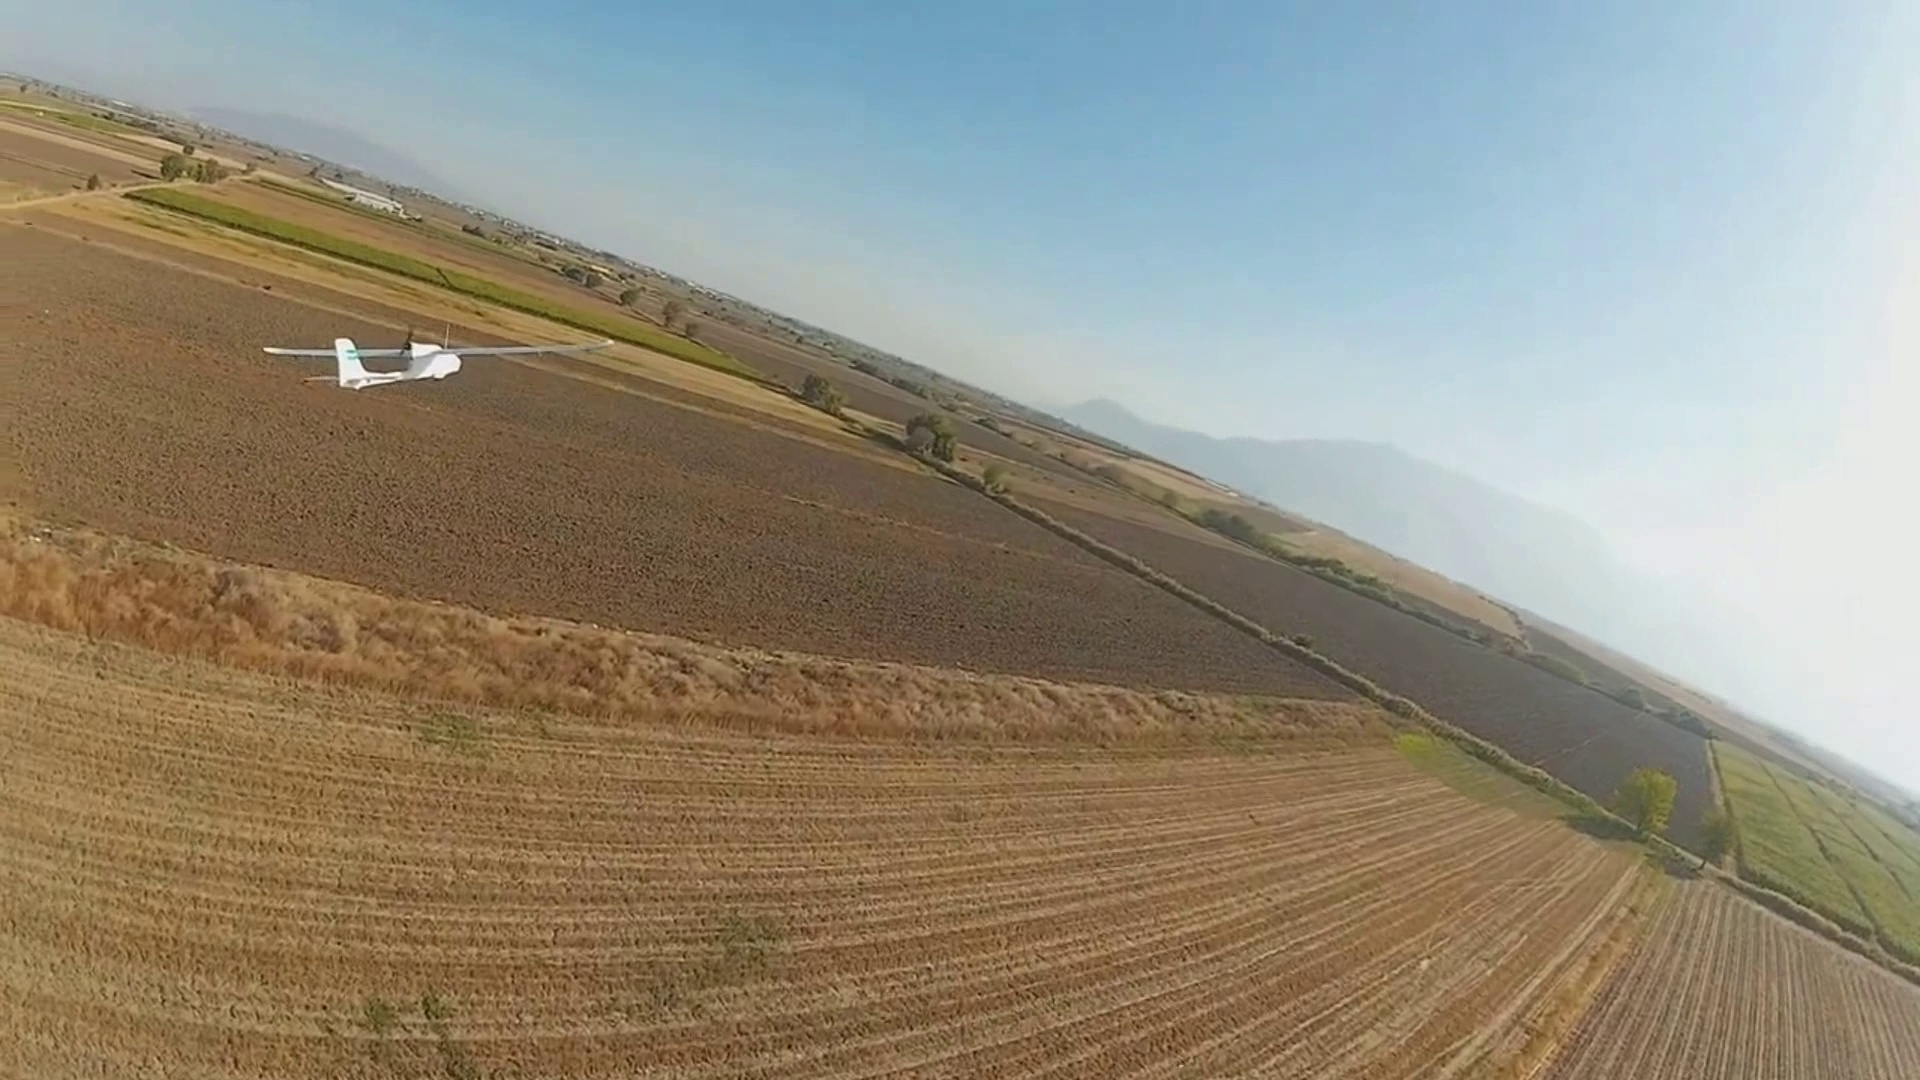airplane: (261, 335, 460, 386)
